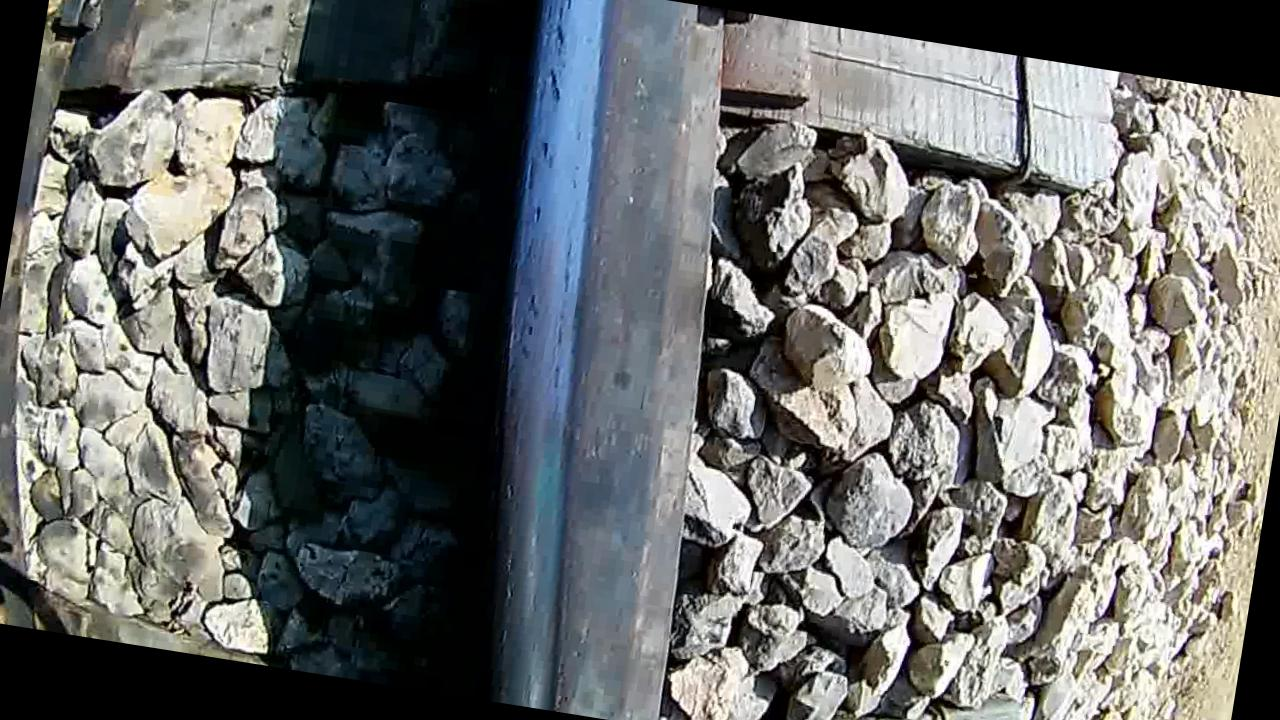crack: (432, 0, 715, 718)
